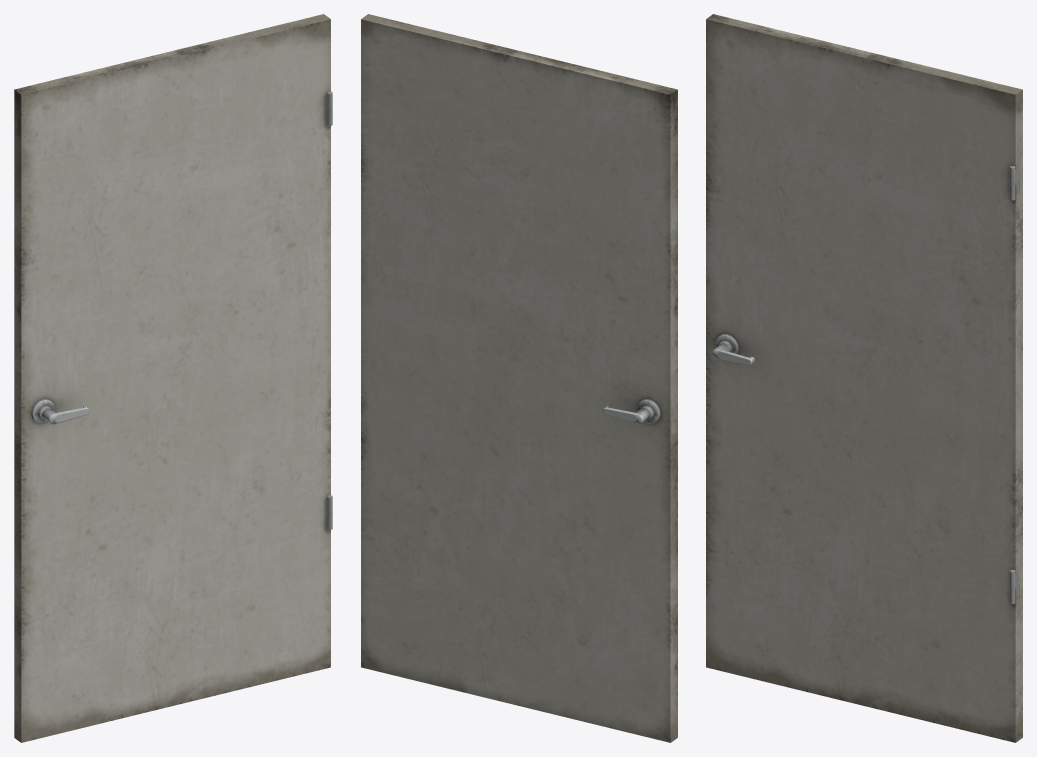
The model's file is GarageDoor02.FBX.
3 views of the same model, side by side, from view 1: azimuth 30°, elevation 25°; view 2: azimuth 150°, elevation 25°; view 3: azimuth 330°, elevation 25° (orthographic).
Visible parts, largest first — view 1: Door01; view 2: Door01; view 3: Door01.
Boxes of the visible parts, left/top/right/bottom form: Door01: left=14, top=14, right=330, bottom=742; Door01: left=361, top=14, right=677, bottom=742; Door01: left=706, top=14, right=1022, bottom=742.
Size of the model in its own units: 100 by 200 by 16.85.
